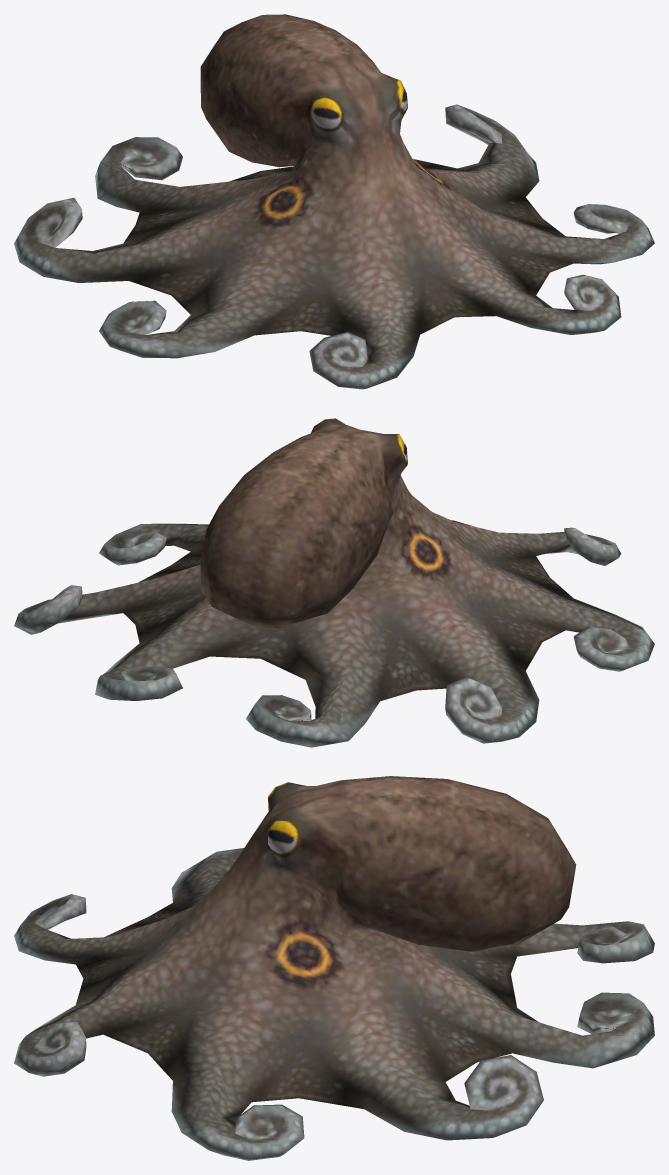
Rendered from baby_teen_octopus.glb.
3 renders of one model, top to bottom at view 1: azimuth 30°, elevation 25°; view 2: azimuth 150°, elevation 25°; view 3: azimuth 270°, elevation 25°, orthographic. The views are drawn at different scales.
Parts seen in each view (by area): view 1: Object_3; view 2: Object_3; view 3: Object_3.
Boxes of the visible parts, x1=… form: Object_3: x1=14, y1=14, x2=654, y2=389; Object_3: x1=14, y1=418, x2=654, y2=747; Object_3: x1=14, y1=776, x2=654, y2=1160.
Bounding box in the file's own units: 7.79 × 3 × 7.29.
1 material, 1 textured.
